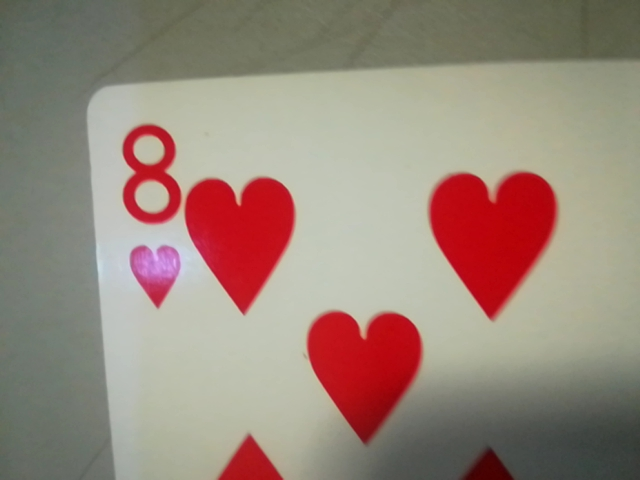hx 8: (105, 112, 190, 315)
